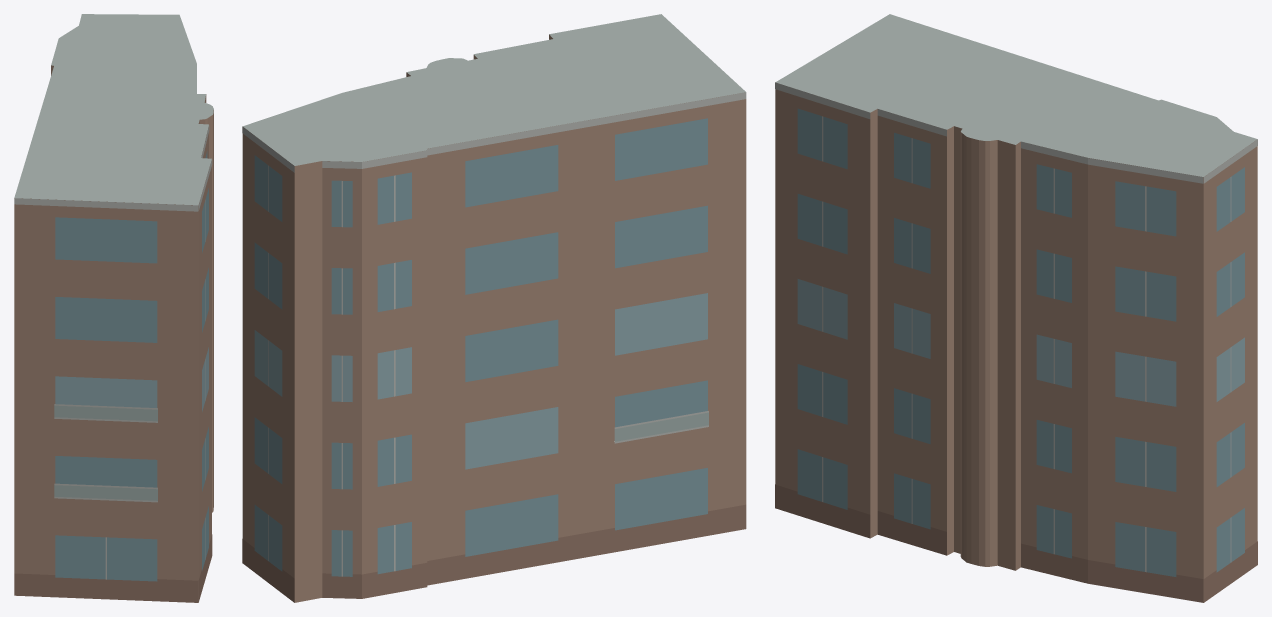
Rendered from survey-upis-32957977.glb.
The picture shows the model from 3 angles, left to right: view 1: azimuth 30°, elevation 25°; view 2: azimuth 150°, elevation 25°; view 3: azimuth 270°, elevation 25°; orthographic projection. The views are drawn at different scales.
Visible parts, largest first — view 1: survey-upis-32957977.tmp; view 2: survey-upis-32957977.tmp; view 3: survey-upis-32957977.tmp.
Part boxes in pixels (bbox=[...]): survey-upis-32957977.tmp: bbox=[14, 14, 213, 602]; survey-upis-32957977.tmp: bbox=[242, 14, 746, 602]; survey-upis-32957977.tmp: bbox=[775, 14, 1257, 602].
Bounding box in the file's own units: 12.61 × 15.35 × 15.77.
